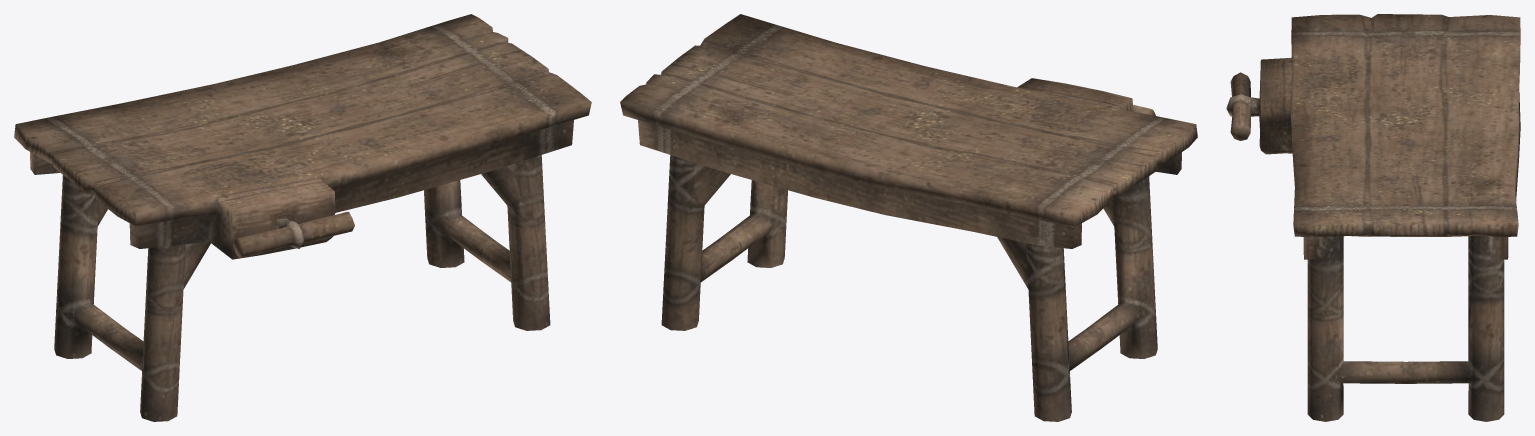
The model's file is workbench.glb.
3 renders of one model, left to right at view 1: azimuth 30°, elevation 25°; view 2: azimuth 150°, elevation 25°; view 3: azimuth 270°, elevation 25°, orthographic. The views are drawn at different scales.
Visible parts, largest first — view 1: npc_props_workbench_00; view 2: npc_props_workbench_00; view 3: npc_props_workbench_00.
Boxes of the visible parts, x1,y1,x2,y2 form: npc_props_workbench_00: (14, 14, 591, 421); npc_props_workbench_00: (620, 14, 1197, 421); npc_props_workbench_00: (1226, 14, 1520, 421).
Size of the model in its own units: 2.27 by 1.05 by 1.33.
1 material, 1 textured.
